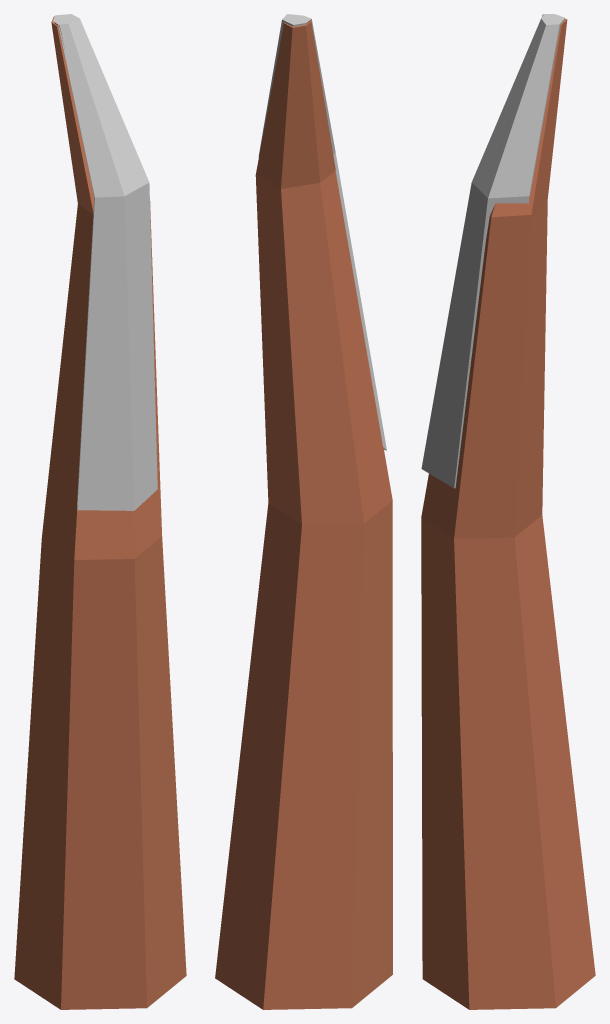
Rendered from Tree_08_winter_mat.fbx.
3 renders of one model, left to right at view 1: azimuth 30°, elevation 25°; view 2: azimuth 150°, elevation 25°; view 3: azimuth 270°, elevation 25°, orthographic. The views are drawn at different scales.
Visible parts, largest first — view 1: Tree_08_winter_mat; view 2: Tree_08_winter_mat; view 3: Tree_08_winter_mat.
Boxes of the visible parts, x1=… form: Tree_08_winter_mat: x1=14, y1=14, x2=186, y2=1009; Tree_08_winter_mat: x1=215, y1=14, x2=392, y2=1009; Tree_08_winter_mat: x1=421, y1=14, x2=595, y2=1009.
Bounding box in the file's own units: 0.8999 × 6.13 × 1.02.
